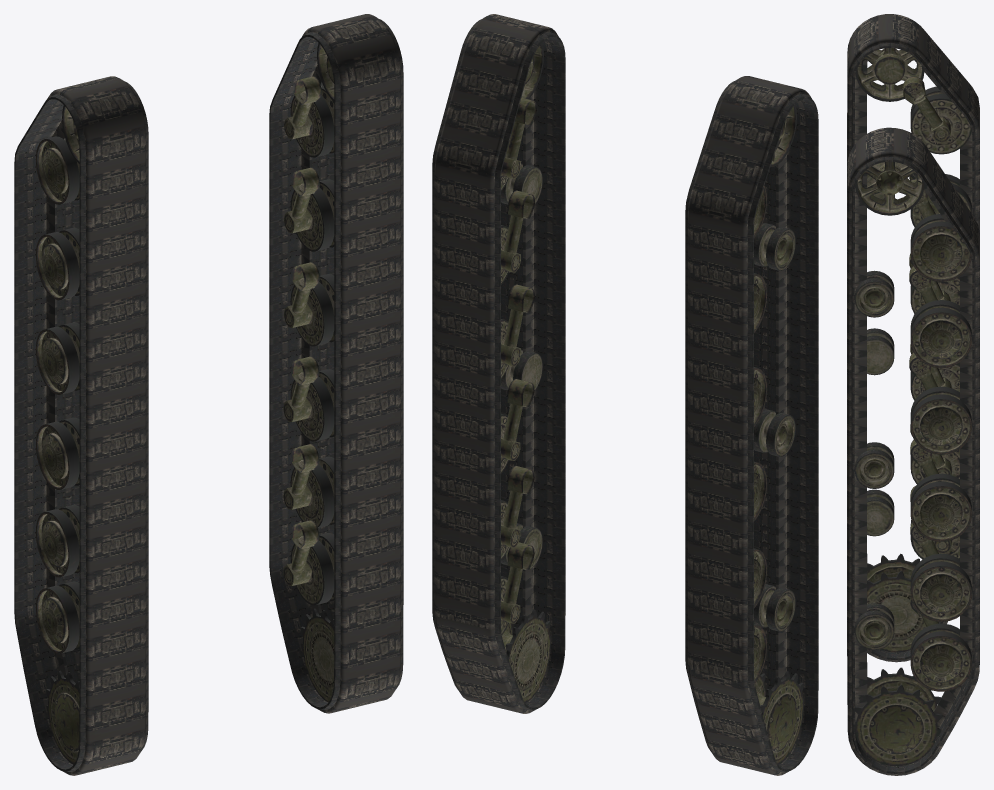
The model's file is Chassis.glb.
3 views of the same model, side by side, from view 1: azimuth 30°, elevation 25°; view 2: azimuth 150°, elevation 25°; view 3: azimuth 270°, elevation 25° (orthographic). The views are drawn at different scales.
Parts seen in each view (by area): view 1: set_0_group_0, set_1_group_0, set_3_group_0, set_2_group_0; view 2: set_0_group_0, set_1_group_0, set_3_group_0, set_2_group_0; view 3: set_3_group_0, set_1_group_0, set_2_group_0, set_0_group_0.
Part boxes in pixels (left/top/right/bottom): set_0_group_0: left=14, top=76, right=148, bottom=775; set_1_group_0: left=269, top=14, right=403, bottom=713; set_3_group_0: left=283, top=43, right=334, bottom=702; set_2_group_0: left=35, top=105, right=79, bottom=764; set_0_group_0: left=685, top=76, right=818, bottom=775; set_1_group_0: left=432, top=14, right=565, bottom=713; set_3_group_0: left=501, top=43, right=550, bottom=702; set_2_group_0: left=754, top=105, right=803, bottom=764; set_3_group_0: left=854, top=161, right=972, bottom=766; set_1_group_0: left=847, top=127, right=979, bottom=775; set_2_group_0: left=855, top=48, right=971, bottom=652; set_0_group_0: left=847, top=14, right=979, bottom=662.
Bounding box in the file's own units: 3.32 × 6.7 × 1.29.
Materials: 4 (4 with a texture image).
